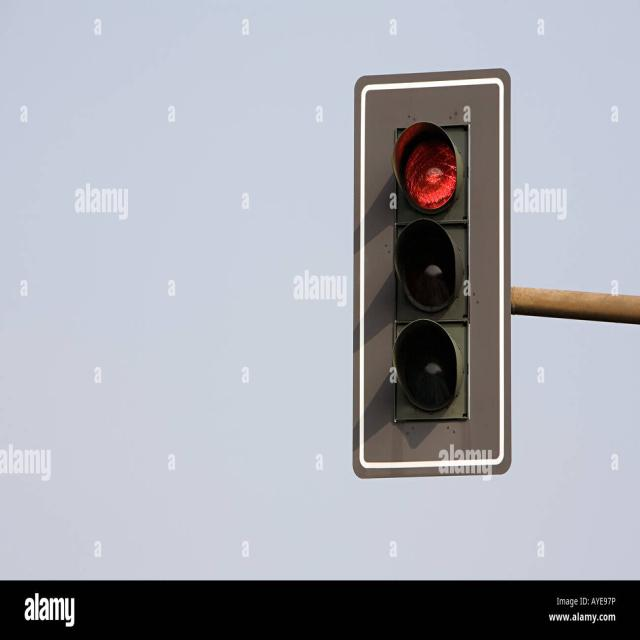red: (393, 121, 469, 214)
